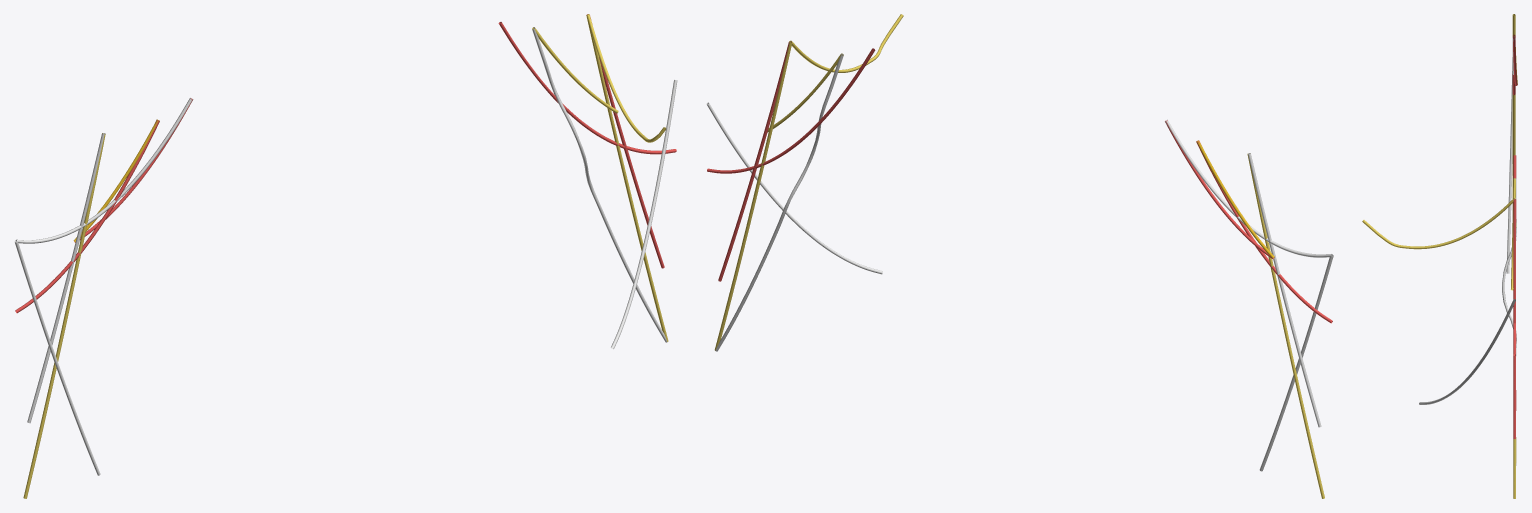
File: Pipes.fbx
3 renders of one model, left to right at view 1: azimuth 30°, elevation 25°; view 2: azimuth 150°, elevation 25°; view 3: azimuth 270°, elevation 25°, orthographic. The views are drawn at different scales.
Visible parts, largest first — view 1: Catenary.002, Catenary.013, Catenary.012, Catenary.005, Catenary.011, Catenary.006, Catenary.004, Catenary.009, Catenary.003, Catenary.010; view 2: Catenary.013, Catenary.012, Catenary.002, Catenary.005, Catenary.010, Catenary.006, Catenary.011, Catenary.009, Catenary.004; view 3: Catenary.010, Catenary.008, Catenary.006, Catenary.011, Catenary.002, Catenary.013, Catenary.007, Catenary.012, Catenary.009.
Boxes of the visible parts, x1,y1,x2,y2 form: Catenary.002: [23, 133, 105, 498]; Catenary.013: [532, 27, 667, 342]; Catenary.012: [586, 14, 668, 341]; Catenary.005: [27, 133, 105, 423]; Catenary.011: [611, 80, 677, 349]; Catenary.006: [14, 240, 100, 475]; Catenary.004: [15, 98, 192, 243]; Catenary.009: [498, 22, 676, 154]; Catenary.003: [15, 120, 159, 313]; Catenary.010: [587, 14, 664, 268]; Catenary.013: [715, 54, 843, 351]; Catenary.012: [714, 41, 791, 350]; Catenary.002: [1247, 154, 1324, 498]; Catenary.005: [1248, 153, 1321, 427]; Catenary.010: [718, 41, 791, 281]; Catenary.006: [1259, 254, 1333, 471]; Catenary.011: [706, 102, 882, 274]; Catenary.009: [707, 48, 875, 173]; Catenary.004: [1165, 119, 1332, 257]; Catenary.010: [1513, 199, 1516, 438]; Catenary.008: [1362, 198, 1515, 249]; Catenary.006: [1506, 57, 1512, 273]; Catenary.011: [1419, 299, 1515, 404]; Catenary.002: [1512, 14, 1515, 203]; Catenary.013: [1502, 178, 1516, 465]; Catenary.007: [1511, 178, 1515, 290]; Catenary.012: [1513, 223, 1516, 498]; Catenary.009: [1513, 155, 1516, 355].
Size of the model in its own units: 1341 by 698 by 350.
